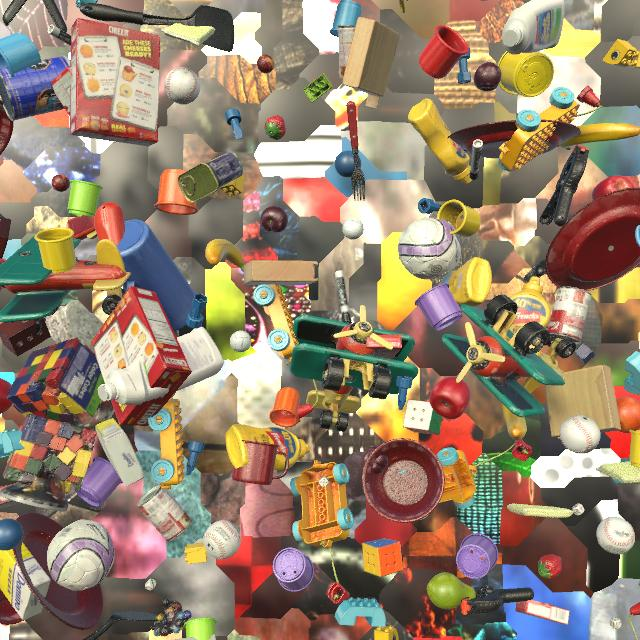ycb_002_master_chef_can: (0, 55, 70, 121)
ycb_003_cracker_box: (91, 286, 192, 426), (70, 18, 160, 147)
ycb_004_sugar_box: (0, 519, 51, 620), (95, 418, 145, 487), (173, 634, 216, 640)
ycb_005_tomato_soup_can: (137, 484, 192, 542), (548, 286, 592, 345), (337, 24, 356, 79), (639, 581, 640, 586)
ycb_006_mustard_bottle: (408, 99, 472, 184), (225, 424, 310, 470), (509, 276, 551, 357), (438, 257, 492, 308)
ycb_008_pudding_box: (0, 483, 16, 508)
ycb_009_gelatin_box: (515, 600, 570, 625), (51, 66, 72, 116), (365, 335, 402, 359)
ycb_010_potted_meat_can: (177, 152, 243, 203)
ycb_011_banana: (560, 123, 640, 150), (205, 239, 244, 271), (502, 404, 527, 440)
ycb_012_strawberry: (538, 554, 562, 579), (265, 115, 286, 140)
ycb_013_apple: (429, 377, 471, 419), (592, 175, 634, 201), (0, 378, 13, 414)
ycb_014_lemon: (481, 0, 487, 1)
ycb_016_pear: (427, 572, 476, 609)
ycb_017_orange: (616, 397, 640, 433)
ycb_018_plum: (474, 62, 502, 91), (361, 446, 388, 474), (260, 206, 288, 233)
